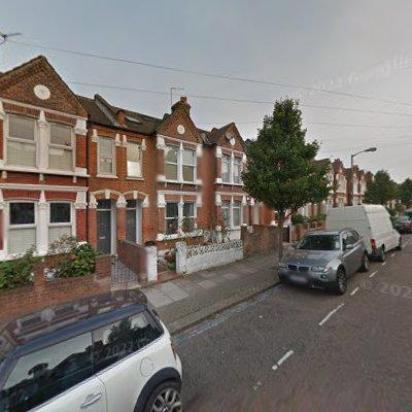stationary-car-onstreet: (0, 284, 182, 412), (278, 228, 370, 295), (391, 213, 411, 232)
stationary-light-truck-onstreet: (348, 205, 402, 261)
